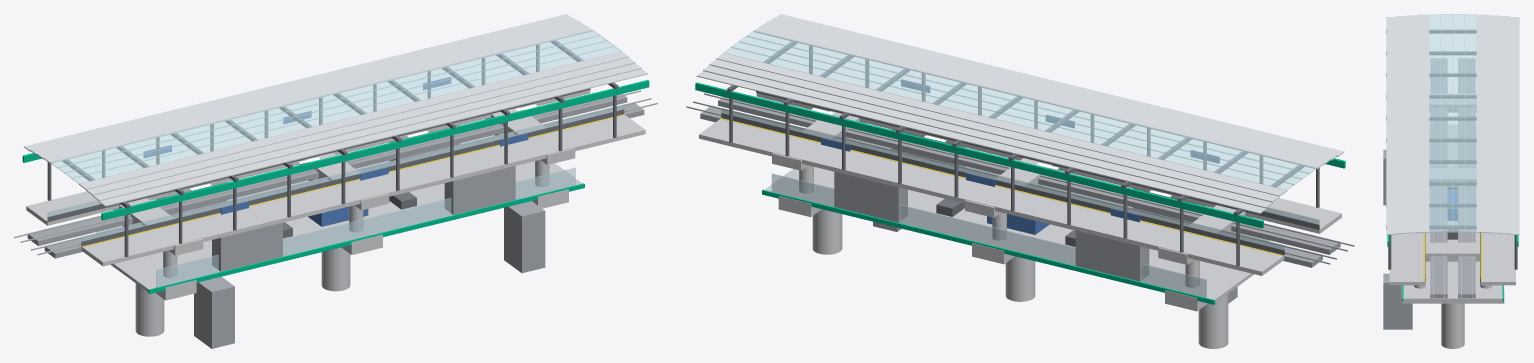
File: bts_station.glb
The picture shows the model from 3 angles, left to right: view 1: azimuth 30°, elevation 25°; view 2: azimuth 150°, elevation 25°; view 3: azimuth 270°, elevation 25°; orthographic projection. The views are drawn at different scales.
Parts seen in each view (by area): view 1: Platform_South, Concourse_Floor, Concourse_Wall_S, TrackBeam_1, RoofSegment_5, RoofSegment_6, RoofSegment_7, RoofSegment_8, RoofSegment_3, RoofTrim_S, RoofSegment_2, RoofSegment_4 (+26 smaller); view 2: Platform_North, Concourse_Floor, Concourse_Wall_N, TrackBeam_2, RoofSegment_5, RoofSegment_6, RoofSegment_4, RoofSegment_3, RoofSegment_8, RoofTrim_N, RoofSegment_9, RoofSegment_7 (+26 smaller); view 3: TrackBeam_1, RoofSegment_5, TrackBeam_2, RoofSegment_6, RoofSegment_3, RoofSegment_8, RoofSegment_2, RoofSegment_9, RoofSegment_4, RoofSegment_7, Concourse_Floor, RoofSegment_1 (+28 smaller).
Part boxes in pixels (box(x1,y1,x2,y2)): Platform_South: box(81, 115, 645, 266); Concourse_Floor: box(111, 161, 582, 291); Concourse_Wall_S: box(156, 167, 575, 287); TrackBeam_1: box(27, 94, 627, 245); RoofSegment_5: box(64, 40, 614, 178); RoofSegment_6: box(57, 35, 607, 173); RoofSegment_7: box(50, 29, 599, 168); RoofSegment_8: box(43, 25, 592, 163); RoofSegment_3: box(79, 51, 628, 189); RoofTrim_S: box(101, 80, 649, 220); RoofSegment_2: box(86, 57, 635, 195); RoofSegment_4: box(71, 46, 621, 183); Platform_North: box(699, 119, 1284, 275); Concourse_Floor: box(765, 167, 1254, 302); Concourse_Wall_N: box(771, 173, 1206, 297); TrackBeam_2: box(718, 97, 1340, 254); RoofSegment_5: box(739, 35, 1309, 179); RoofSegment_6: box(731, 41, 1301, 184); RoofSegment_4: box(746, 30, 1316, 173); RoofSegment_3: box(753, 25, 1324, 169); RoofSegment_8: box(716, 53, 1287, 196); RoofTrim_N: box(695, 82, 1263, 228); RoofSegment_9: box(709, 59, 1279, 202); RoofSegment_7: box(724, 47, 1294, 190); TrackBeam_1: box(1458, 58, 1475, 298); RoofSegment_5: box(1440, 14, 1453, 231); TrackBeam_2: box(1430, 58, 1447, 298); RoofSegment_6: box(1452, 14, 1465, 231); RoofSegment_3: box(1417, 14, 1429, 232); RoofSegment_8: box(1476, 14, 1488, 232); RoofSegment_2: box(1406, 15, 1417, 233); RoofSegment_9: box(1488, 15, 1499, 233); RoofSegment_4: box(1429, 14, 1440, 232); RoofSegment_7: box(1465, 14, 1476, 232); Concourse_Floor: box(1403, 125, 1502, 301); RoofSegment_1: box(1396, 16, 1406, 233).
Size of the model in its own units: 80 by 22.06 by 18.6.
